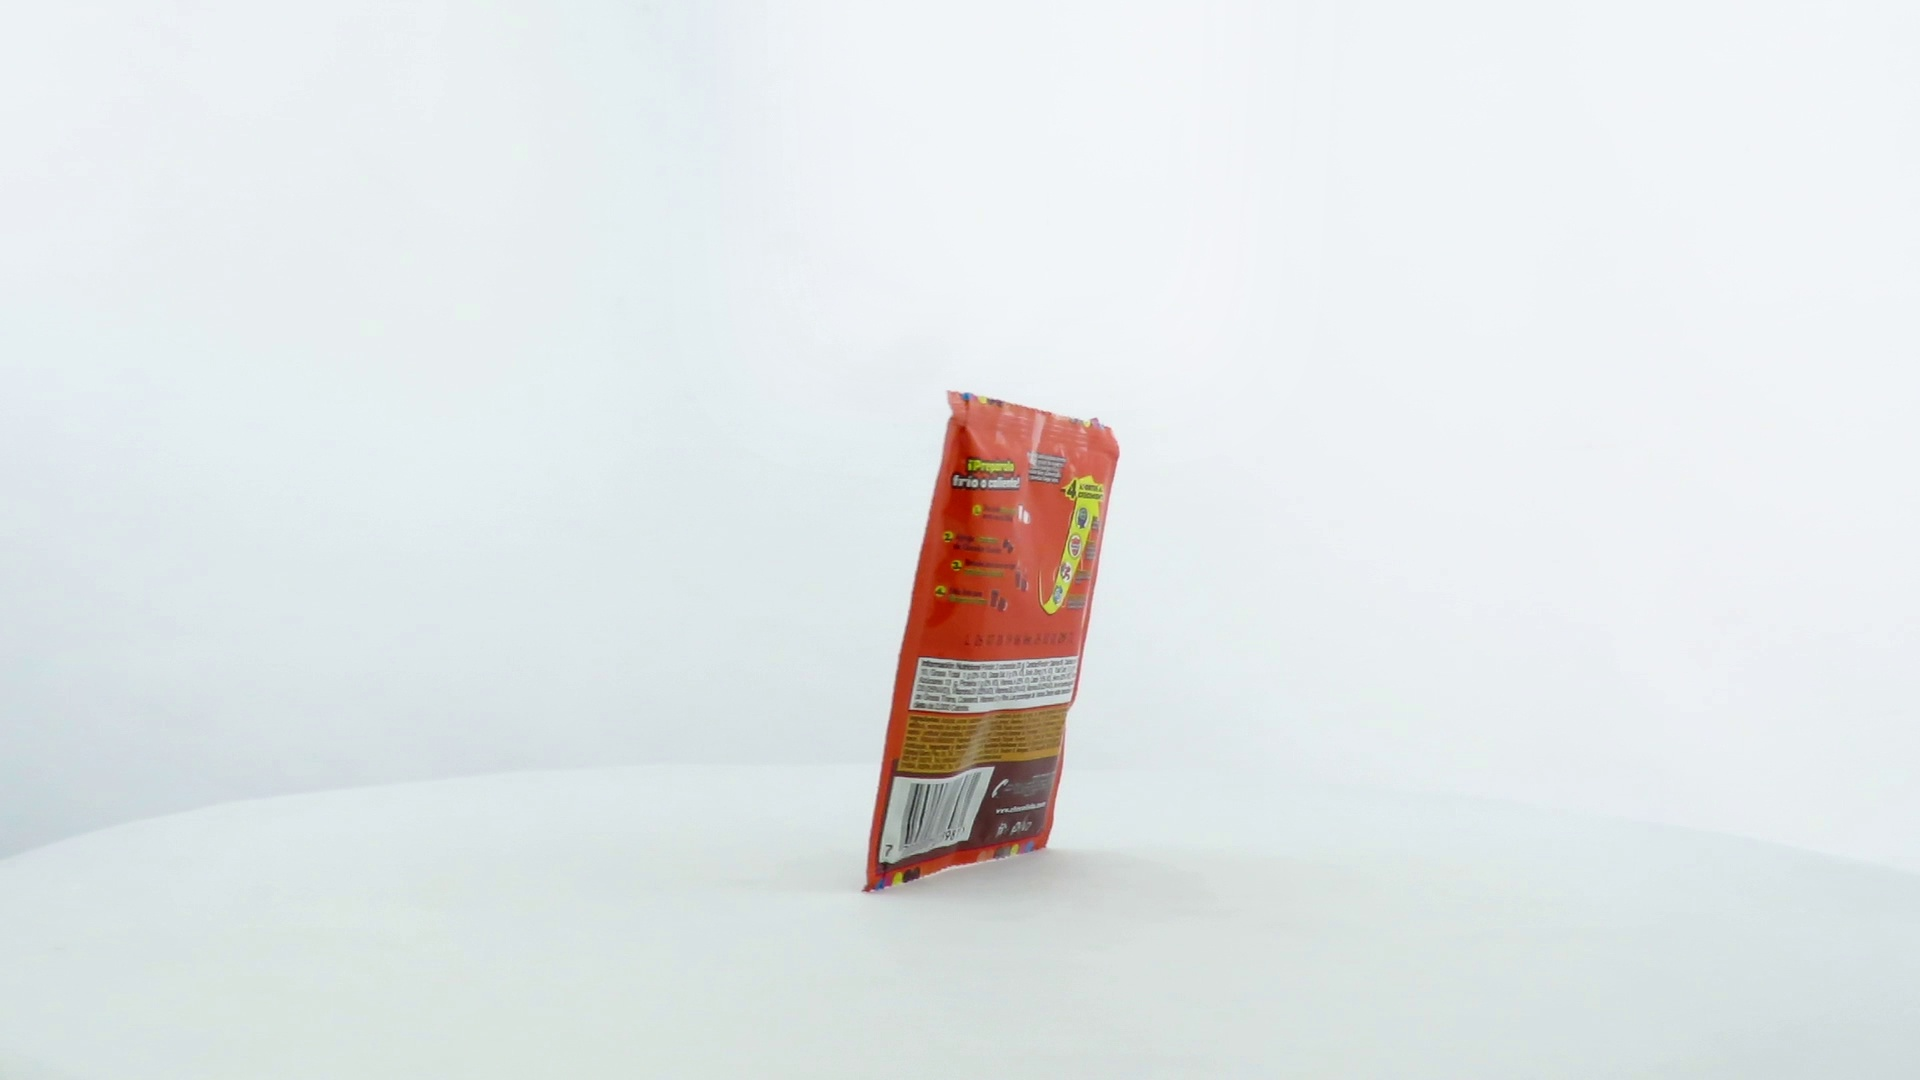COL0170103SOB02000: (856, 385, 1126, 898)
